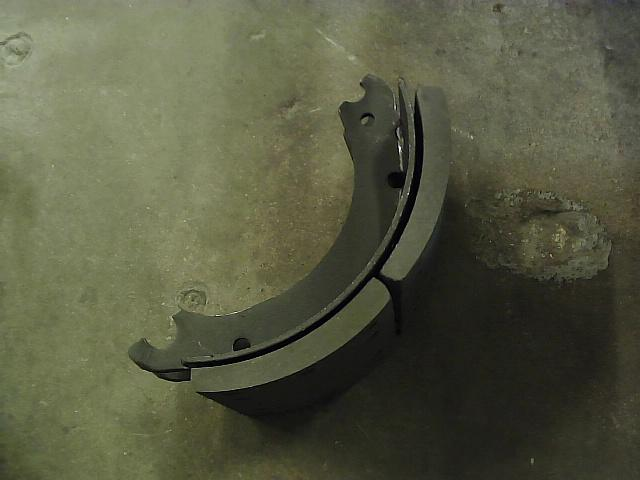brake-shoes: (127, 72, 454, 422)
